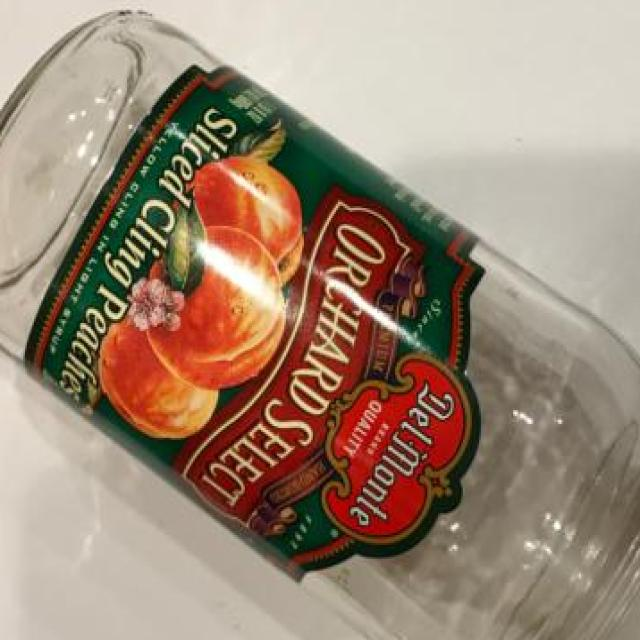organic: (2, 4, 631, 631)
